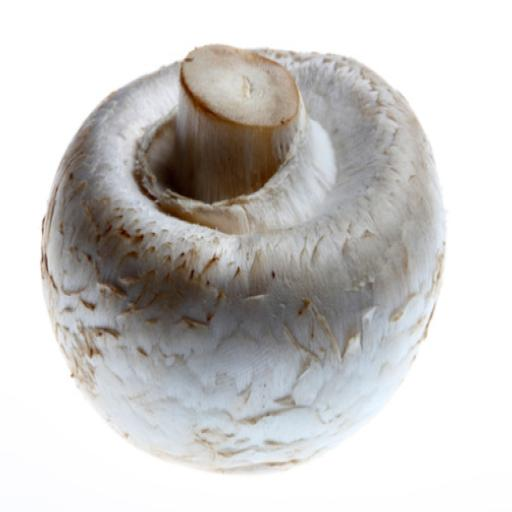Button Mushroom: (37, 34, 452, 485)
